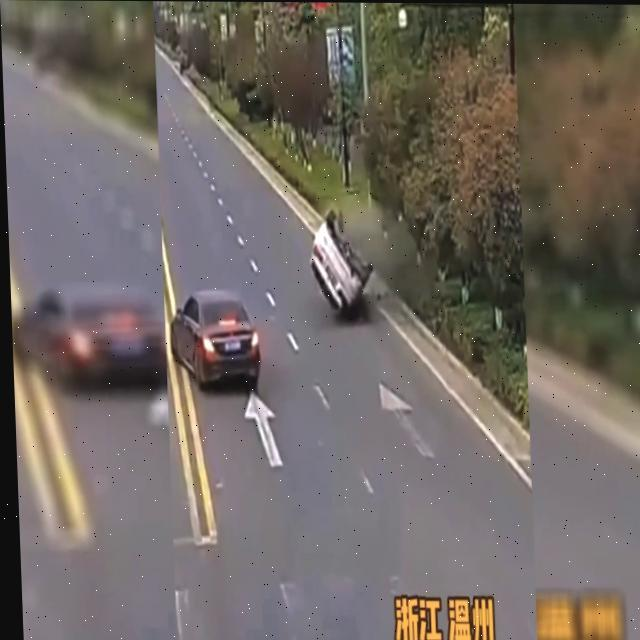single accident: (300, 202, 374, 326)
